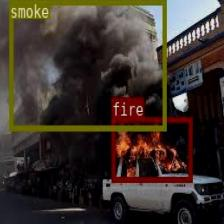fire: (111, 116, 191, 182)
smoke: (9, 0, 166, 130)
